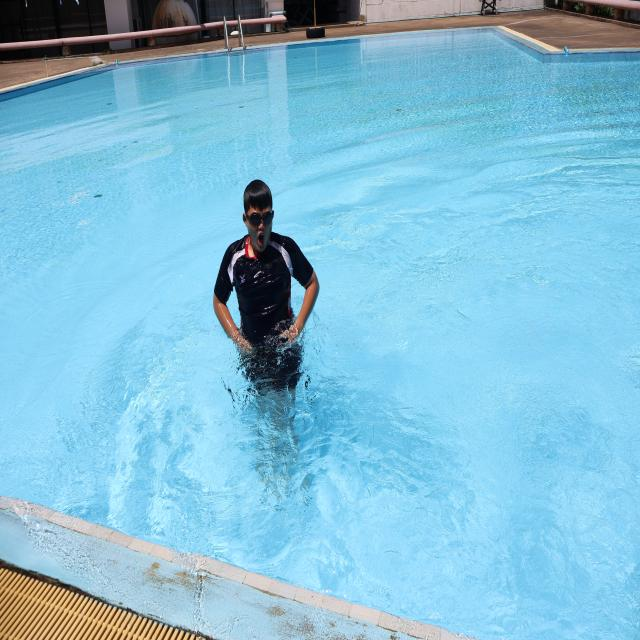Swimming: (210, 178, 320, 389)
